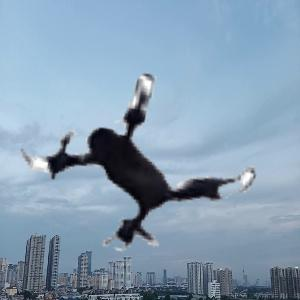drone: (9, 19, 275, 285)
